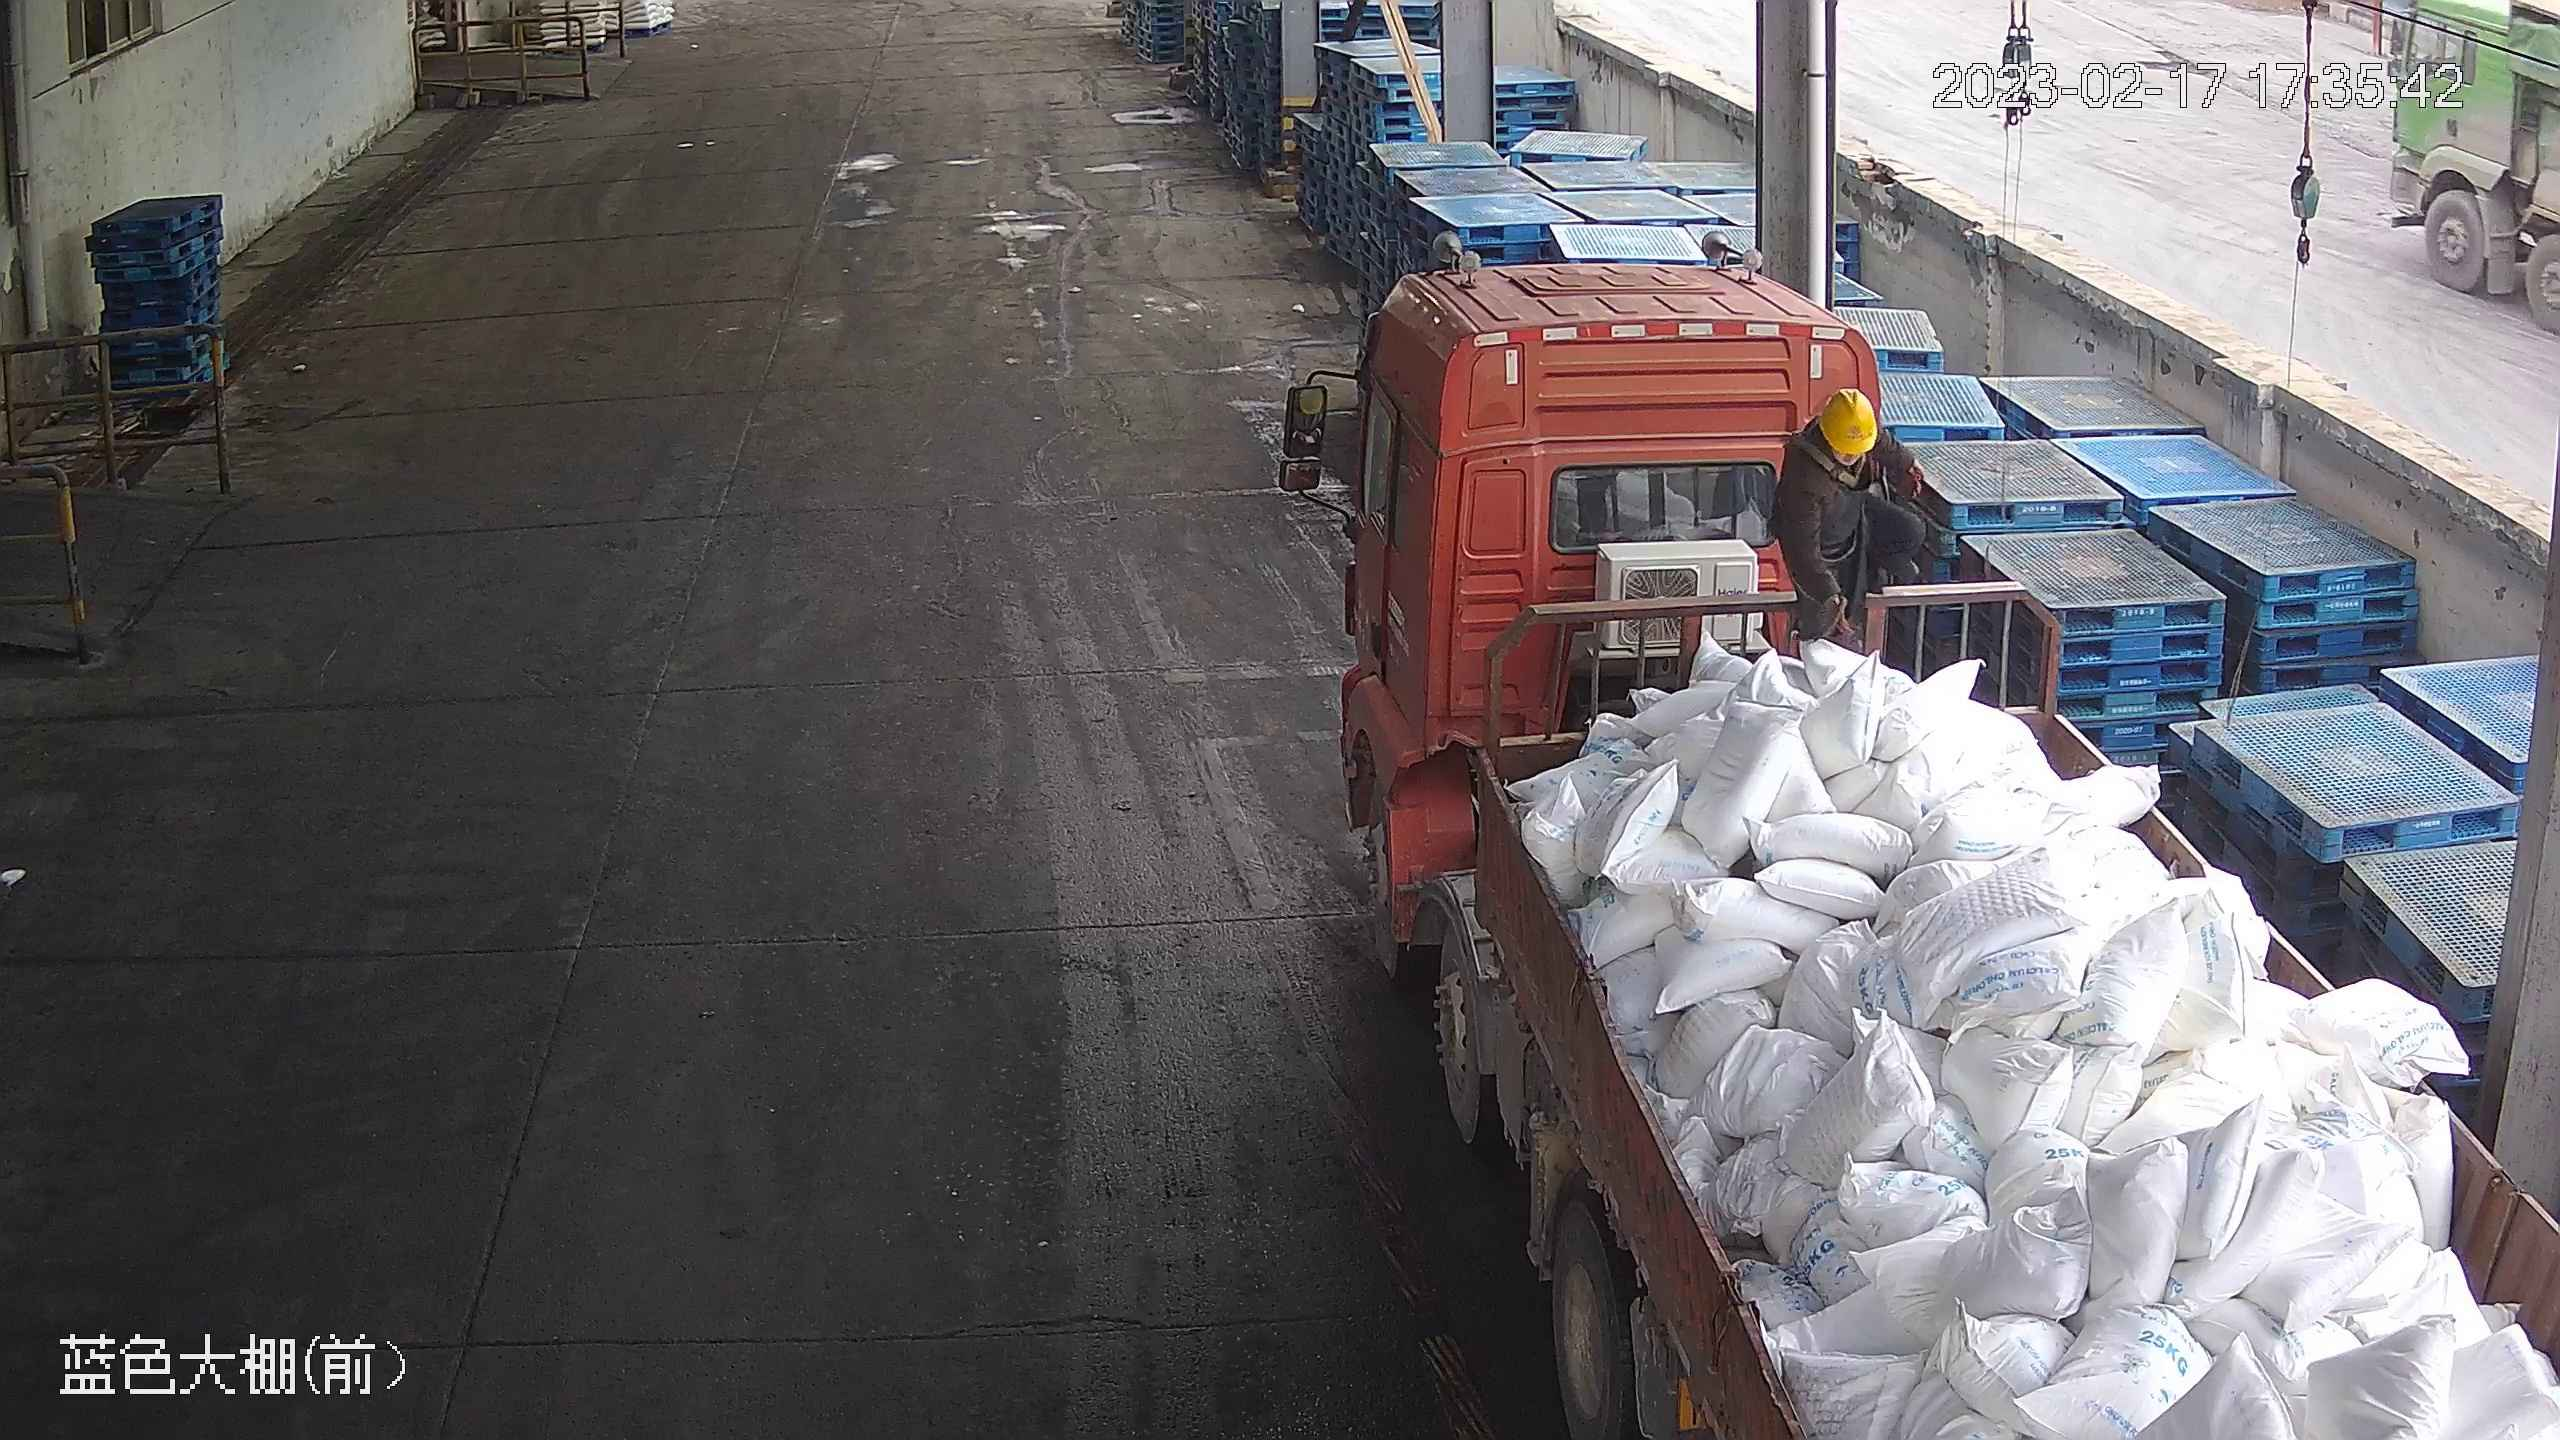belt: (1816, 425, 1889, 485)
head: (1778, 385, 1911, 496)
helmet: (1818, 386, 1887, 458)
people: (1768, 382, 1951, 669)
truck: (1281, 227, 2555, 1440)
